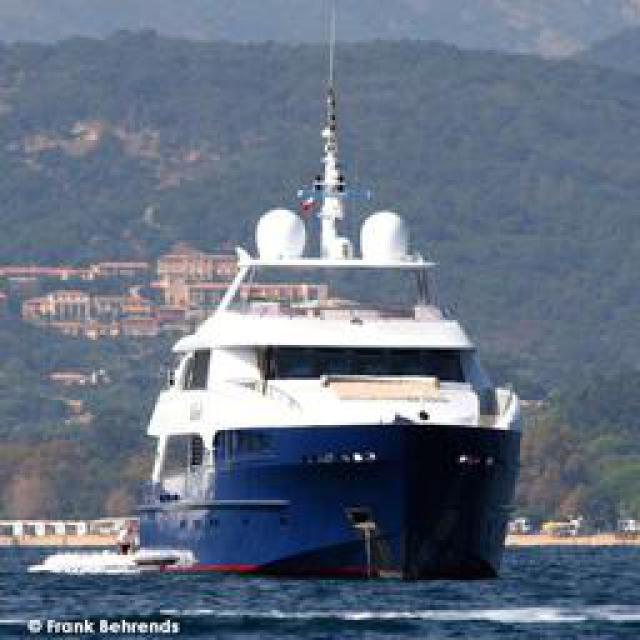Ship: (130, 188, 528, 583)
